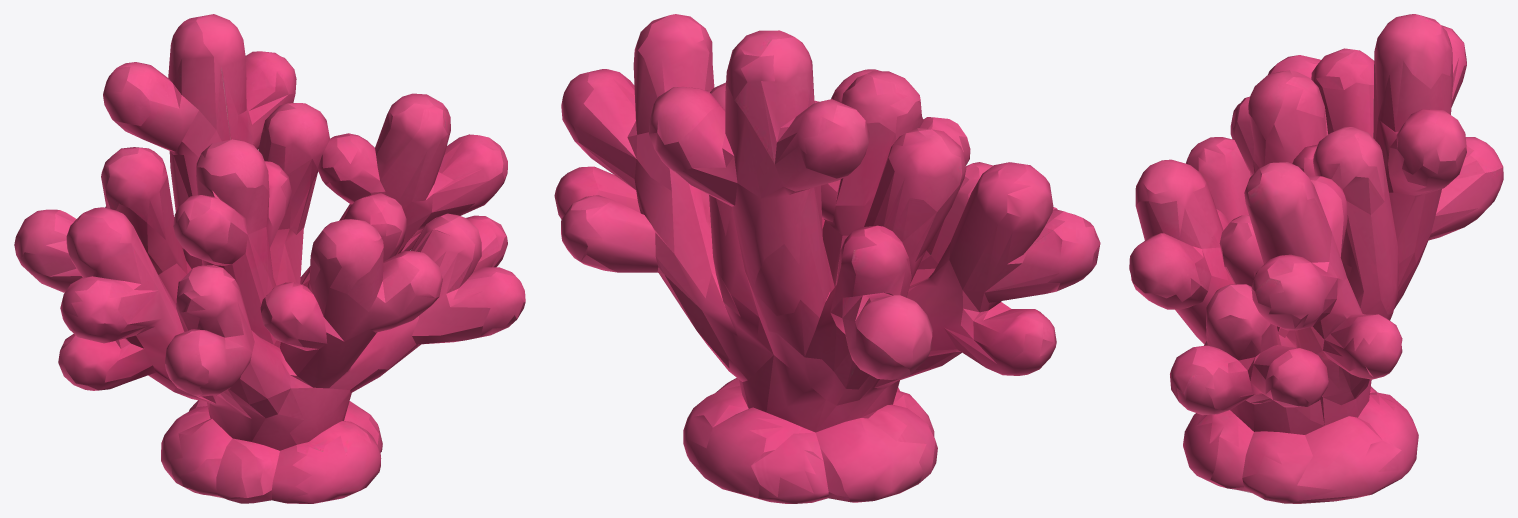
Rendered from hav-koral-gren.glb.
3 renders of one model, left to right at view 1: azimuth 30°, elevation 25°; view 2: azimuth 150°, elevation 25°; view 3: azimuth 270°, elevation 25°, orthographic. The views are drawn at different scales.
Size of the model in its own units: 1.9 by 1.66 by 1.29.
1 material, 1 textured.
